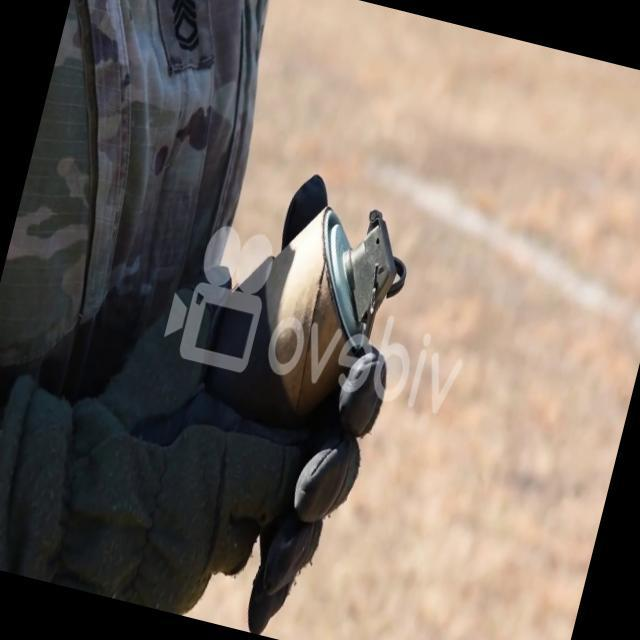grenade: (188, 155, 428, 450)
